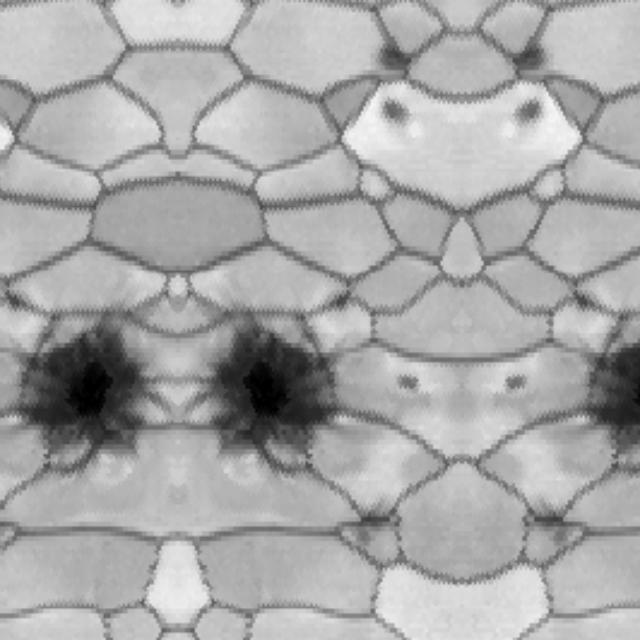good_void: (203, 314, 340, 468), (16, 314, 153, 468), (586, 319, 640, 468), (340, 489, 404, 547), (522, 489, 586, 547), (366, 35, 424, 78), (502, 35, 560, 78), (369, 90, 415, 135), (511, 90, 557, 135), (325, 279, 362, 313), (564, 279, 601, 313), (393, 365, 430, 394), (496, 365, 533, 394), (0, 279, 31, 313)
